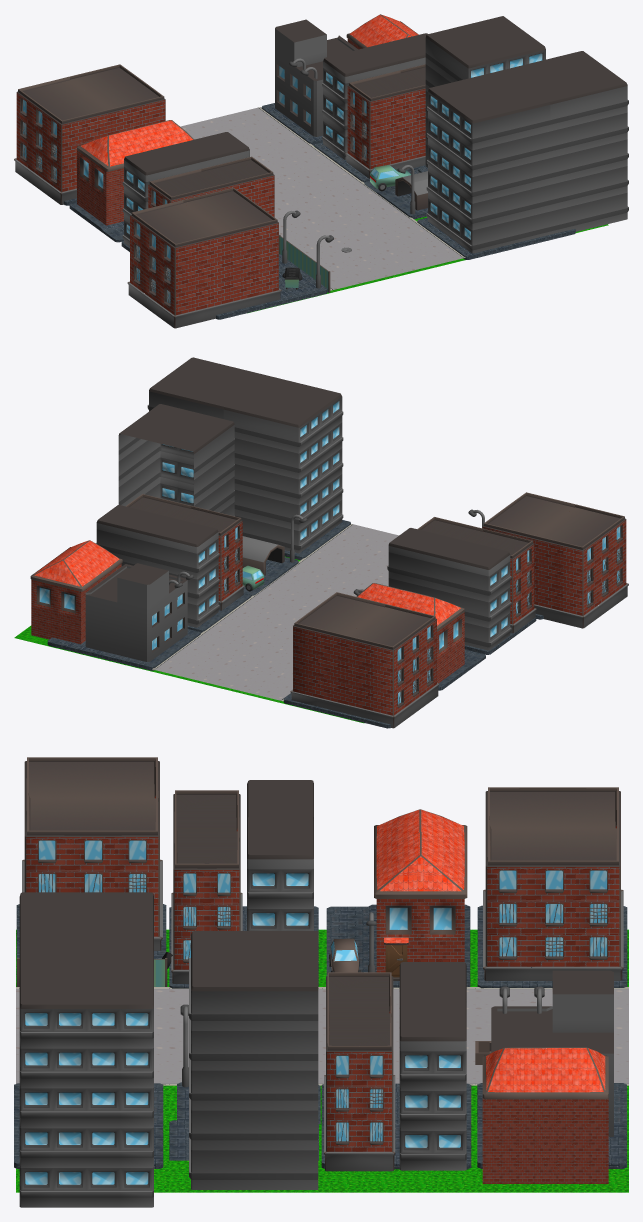
File: Map_props2.fbx
3 renders of one model, top to bottom at view 1: azimuth 30°, elevation 25°; view 2: azimuth 150°, elevation 25°; view 3: azimuth 270°, elevation 25°, orthographic. The views are drawn at different scales.
Parts seen in each view (by area): view 1: Cube.004, Cube.006, Дом1.003, Дом1.009, Дом1.006, Дом1.002, Plane.002, Cube.012, Plane.005, Cube.031, Cube.026, Cube.024 (+22 smaller); view 2: Cube.004, Cube.012, Дом1.003, Дом1.009, Cube.031, Cube.014, Дом1.008, Plane.016, Cube.024, Cube.032, Cube.006, Plane.007 (+18 smaller); view 3: Cube.006, Cube.012, Дом1.008, Дом1.002, Cube.028, Дом1.007, Cube.018, Cube.032, Cube.033, Cube.031, Дом1.005, Cube.004 (+26 smaller).
Part boxes in pixels (x1,y1,x2,y2): Cube.004: (426, 69, 550, 253); Cube.006: (506, 51, 628, 234); Дом1.003: (127, 200, 228, 328); Дом1.009: (14, 76, 113, 204); Дом1.006: (345, 70, 422, 178); Дом1.002: (183, 187, 281, 311); Plane.002: (298, 220, 465, 290); Cube.012: (425, 16, 545, 167); Plane.005: (274, 182, 414, 248); Cube.031: (275, 19, 357, 136); Cube.026: (77, 127, 151, 225); Cube.024: (322, 45, 397, 159); Cube.004: (223, 375, 343, 553); Cube.012: (118, 404, 234, 516); Дом1.003: (532, 504, 628, 628); Дом1.009: (342, 604, 439, 728); Cube.031: (85, 563, 187, 661); Cube.014: (438, 540, 511, 650); Дом1.008: (290, 592, 385, 712); Plane.016: (152, 633, 292, 701); Cube.024: (146, 517, 219, 627); Cube.032: (30, 550, 102, 644); Cube.006: (147, 357, 266, 418); Plane.007: (202, 596, 310, 654); Cube.006: (19, 948, 153, 1207); Cube.012: (189, 931, 318, 1189); Дом1.008: (483, 824, 623, 980); Дом1.002: (24, 794, 162, 950); Cube.028: (399, 999, 466, 1170); Дом1.007: (324, 1009, 395, 1171); Cube.018: (374, 832, 467, 972); Cube.032: (545, 1047, 608, 1183); Cube.033: (482, 1047, 545, 1183); Cube.031: (475, 970, 613, 1136); Дом1.005: (171, 827, 240, 983); Cube.004: (19, 892, 153, 951).
Bounding box in the file's own units: 5101 × 1462 × 4013.
